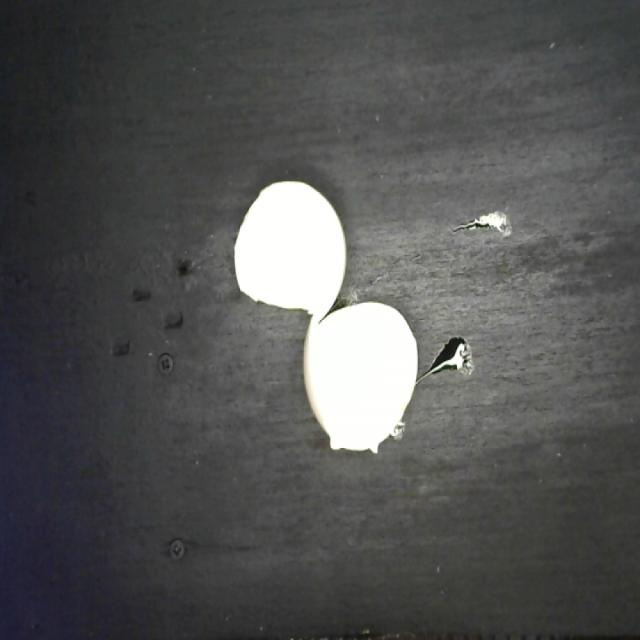biodegradable: (231, 176, 418, 456)
